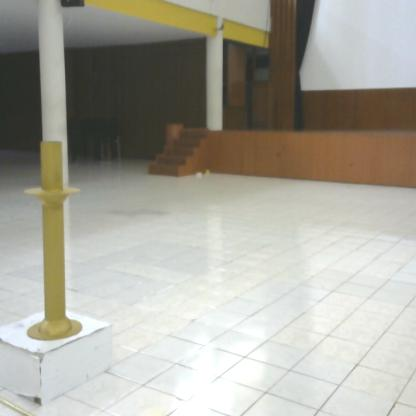pole: (20, 134, 89, 344)
